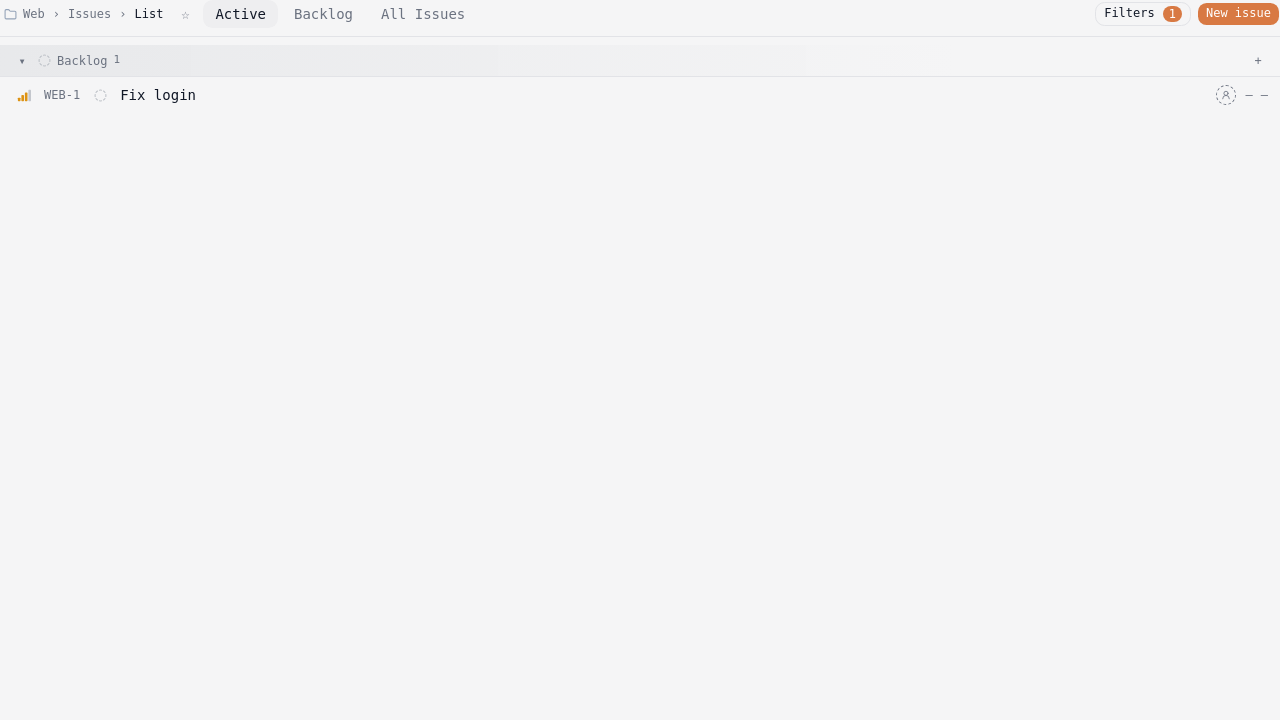
Test: project issues views › a conflicting move resolves last-write-wins with a visible toast
Check: the text "WEB-1" is shown, box [44, 87, 80, 103]
Click the button "Filters 1" at (1143, 14), box [1095, 2, 1191, 26]
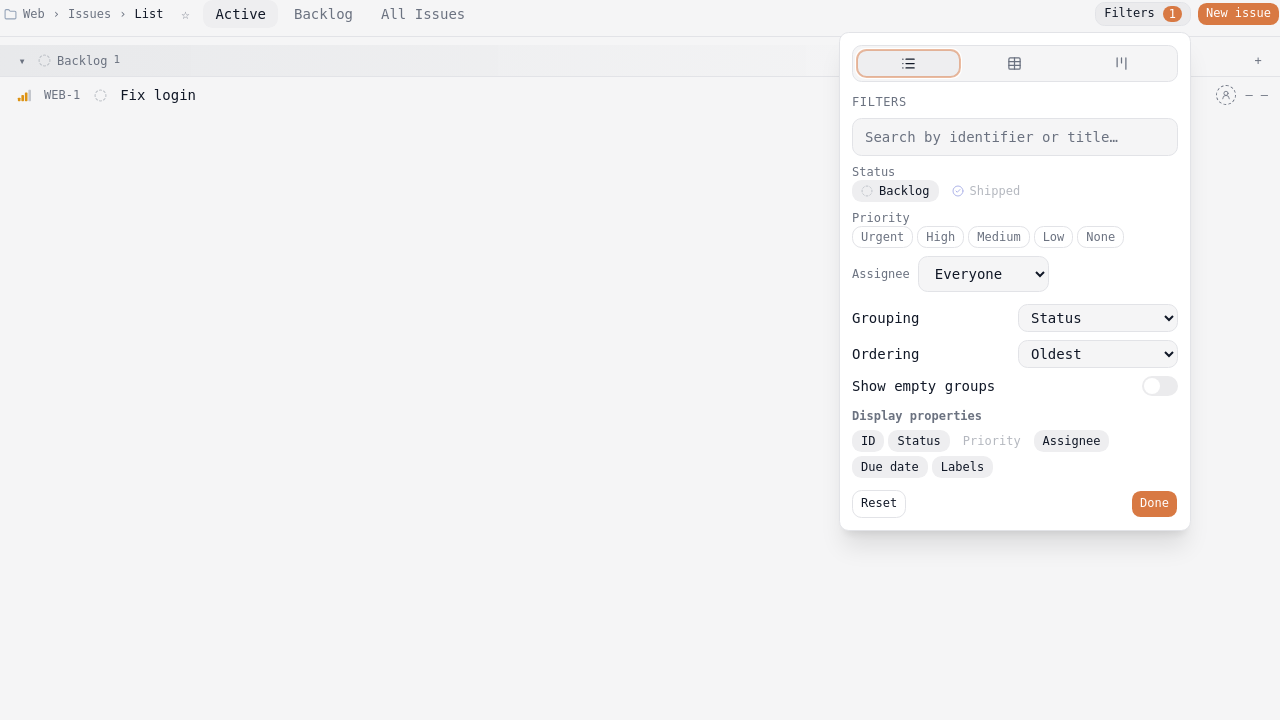
Click the tab named "Kanban" at (1122, 64), box [1070, 50, 1173, 77]
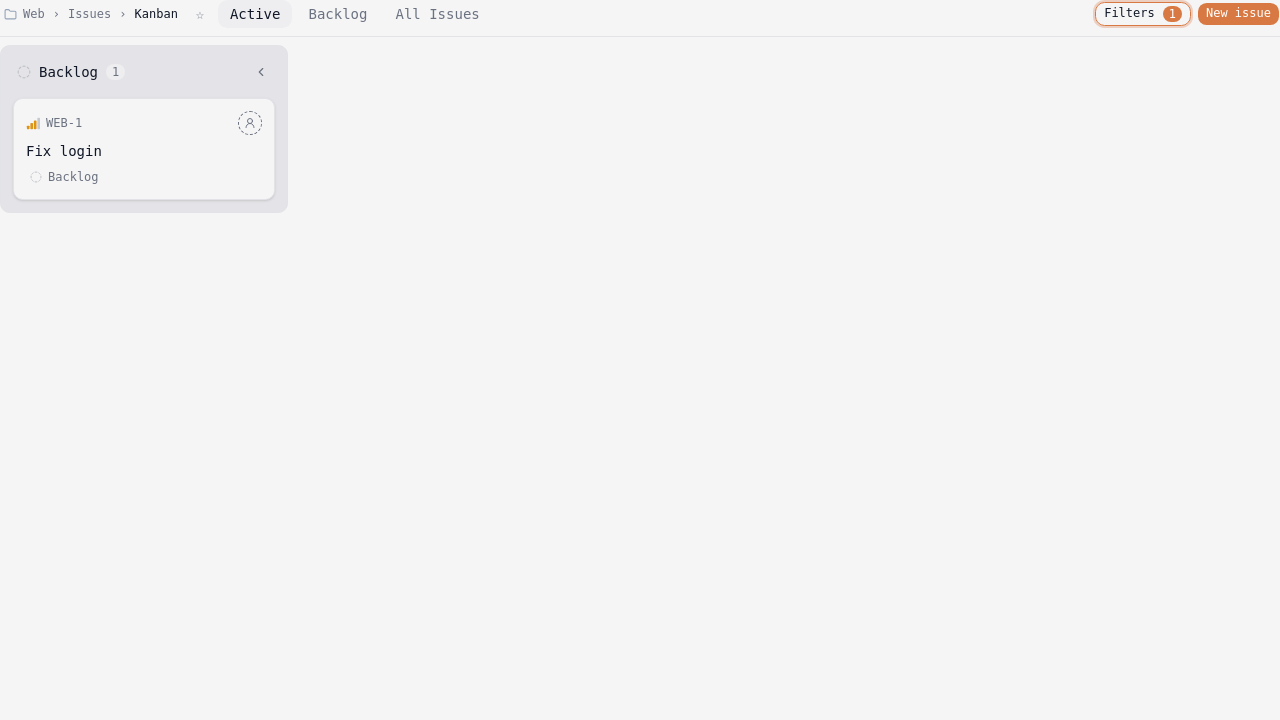
Check: the element with test id "kanban-card-WEB-1" is shown, box [13, 98, 275, 200]
Click the button with aria-label "move WEB-1 to status" at (64, 177), box [26, 167, 103, 187]
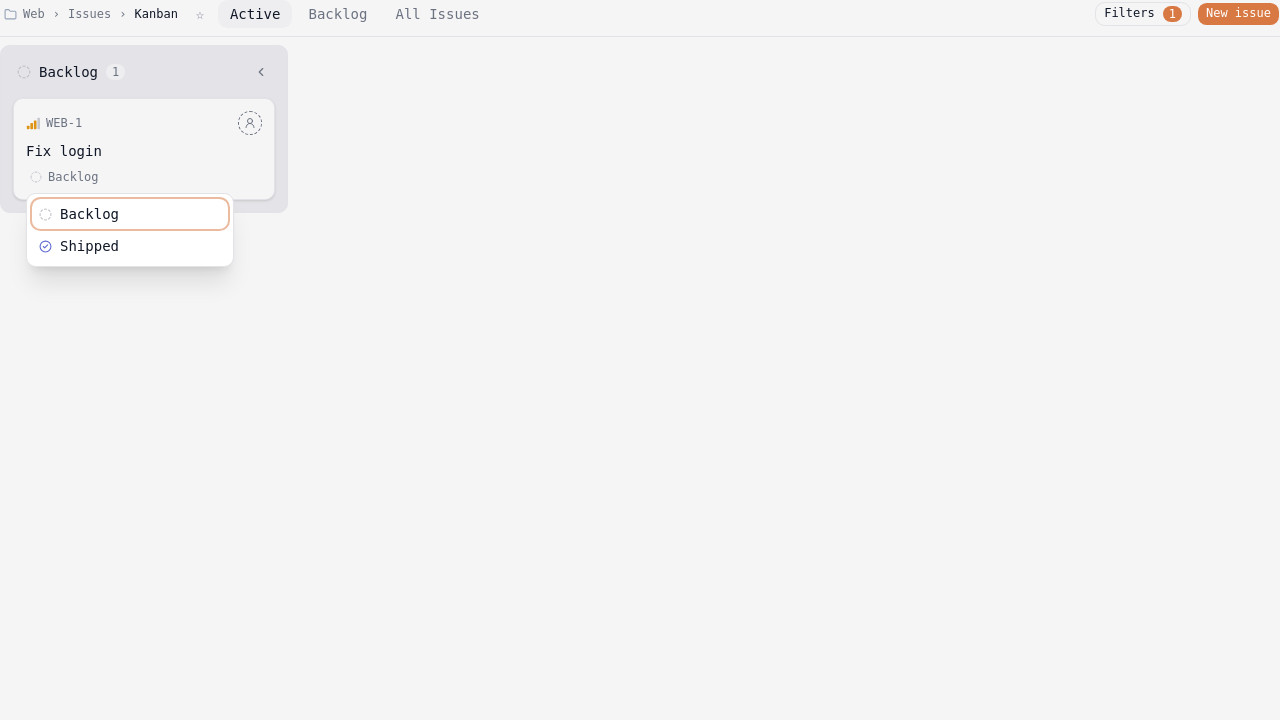
Click the menu item "Shipped" at (130, 246), box [31, 230, 229, 262]
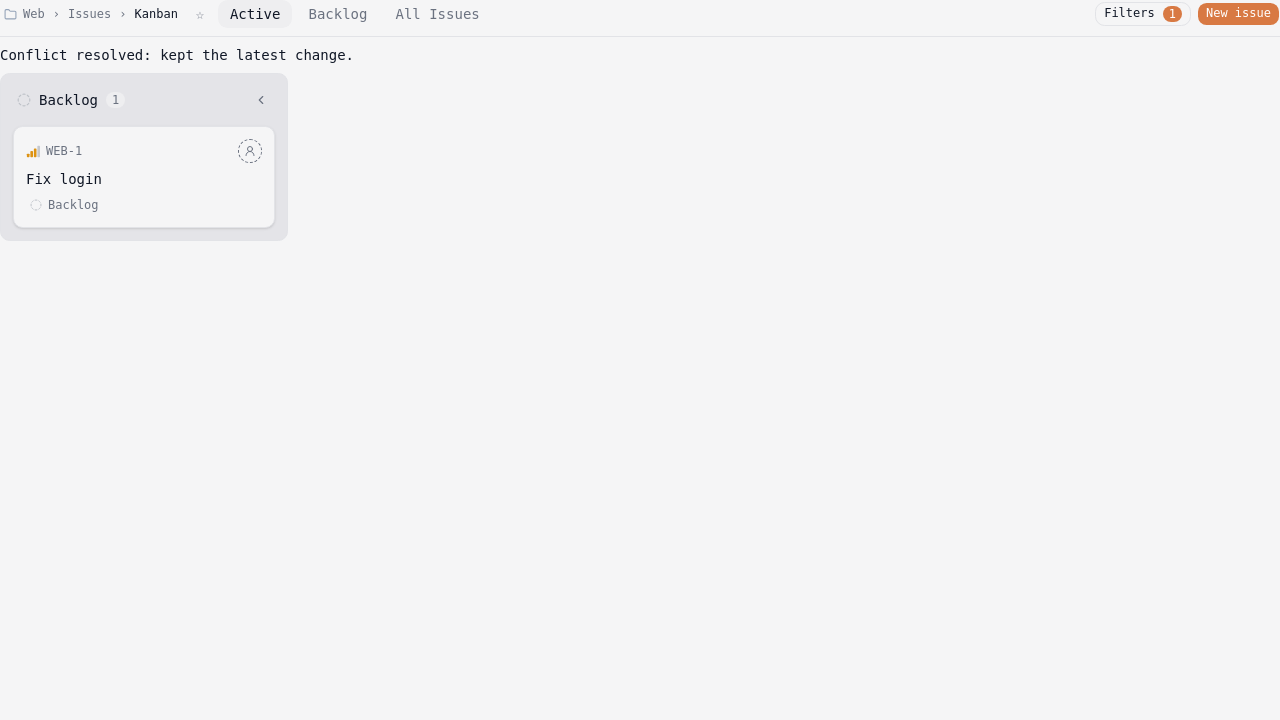
Check: the text "Fix login" is shown, box [26, 171, 102, 187]
Check: the text "Conflict resolved: kept the latest change." is shown, box [0, 47, 354, 63]
